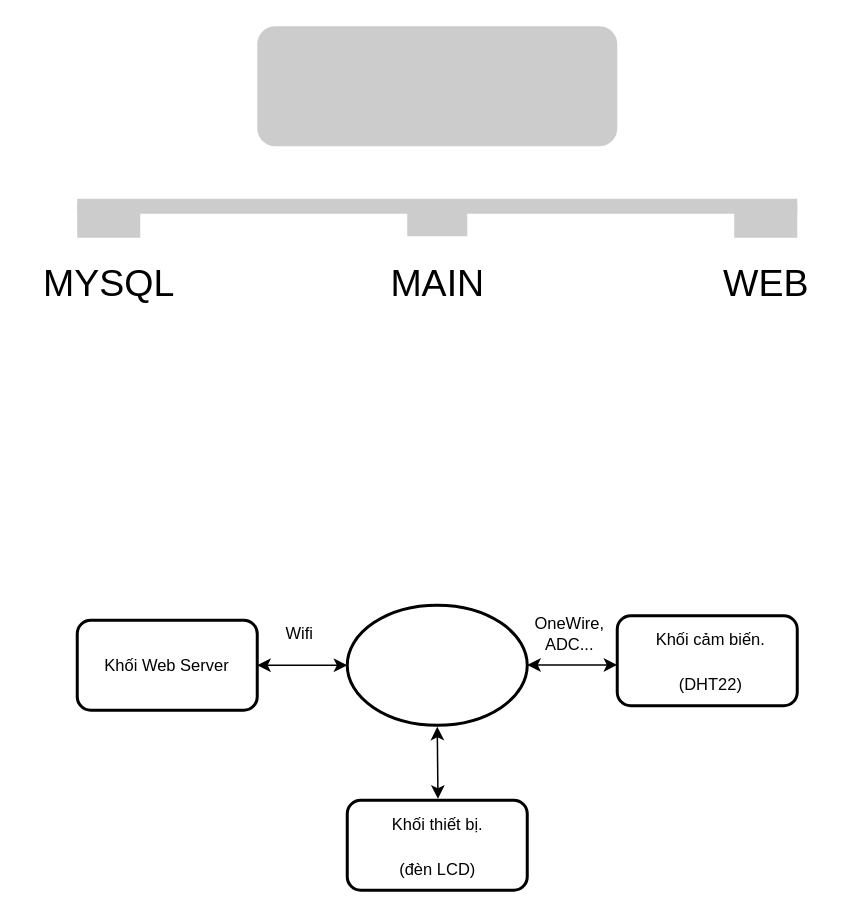
Image size: 851x917. Some labels were removed from this diagram. The box of each missing label's shape, as (x1, y1, x2, y2) in pixels:
Khối xử lý trung tâm Raspberry: (345, 603, 528, 726)
PROGRAM: (256, 26, 616, 146)
